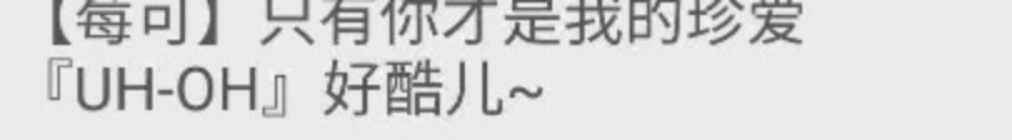TextView: (1, 1, 1011, 139)
